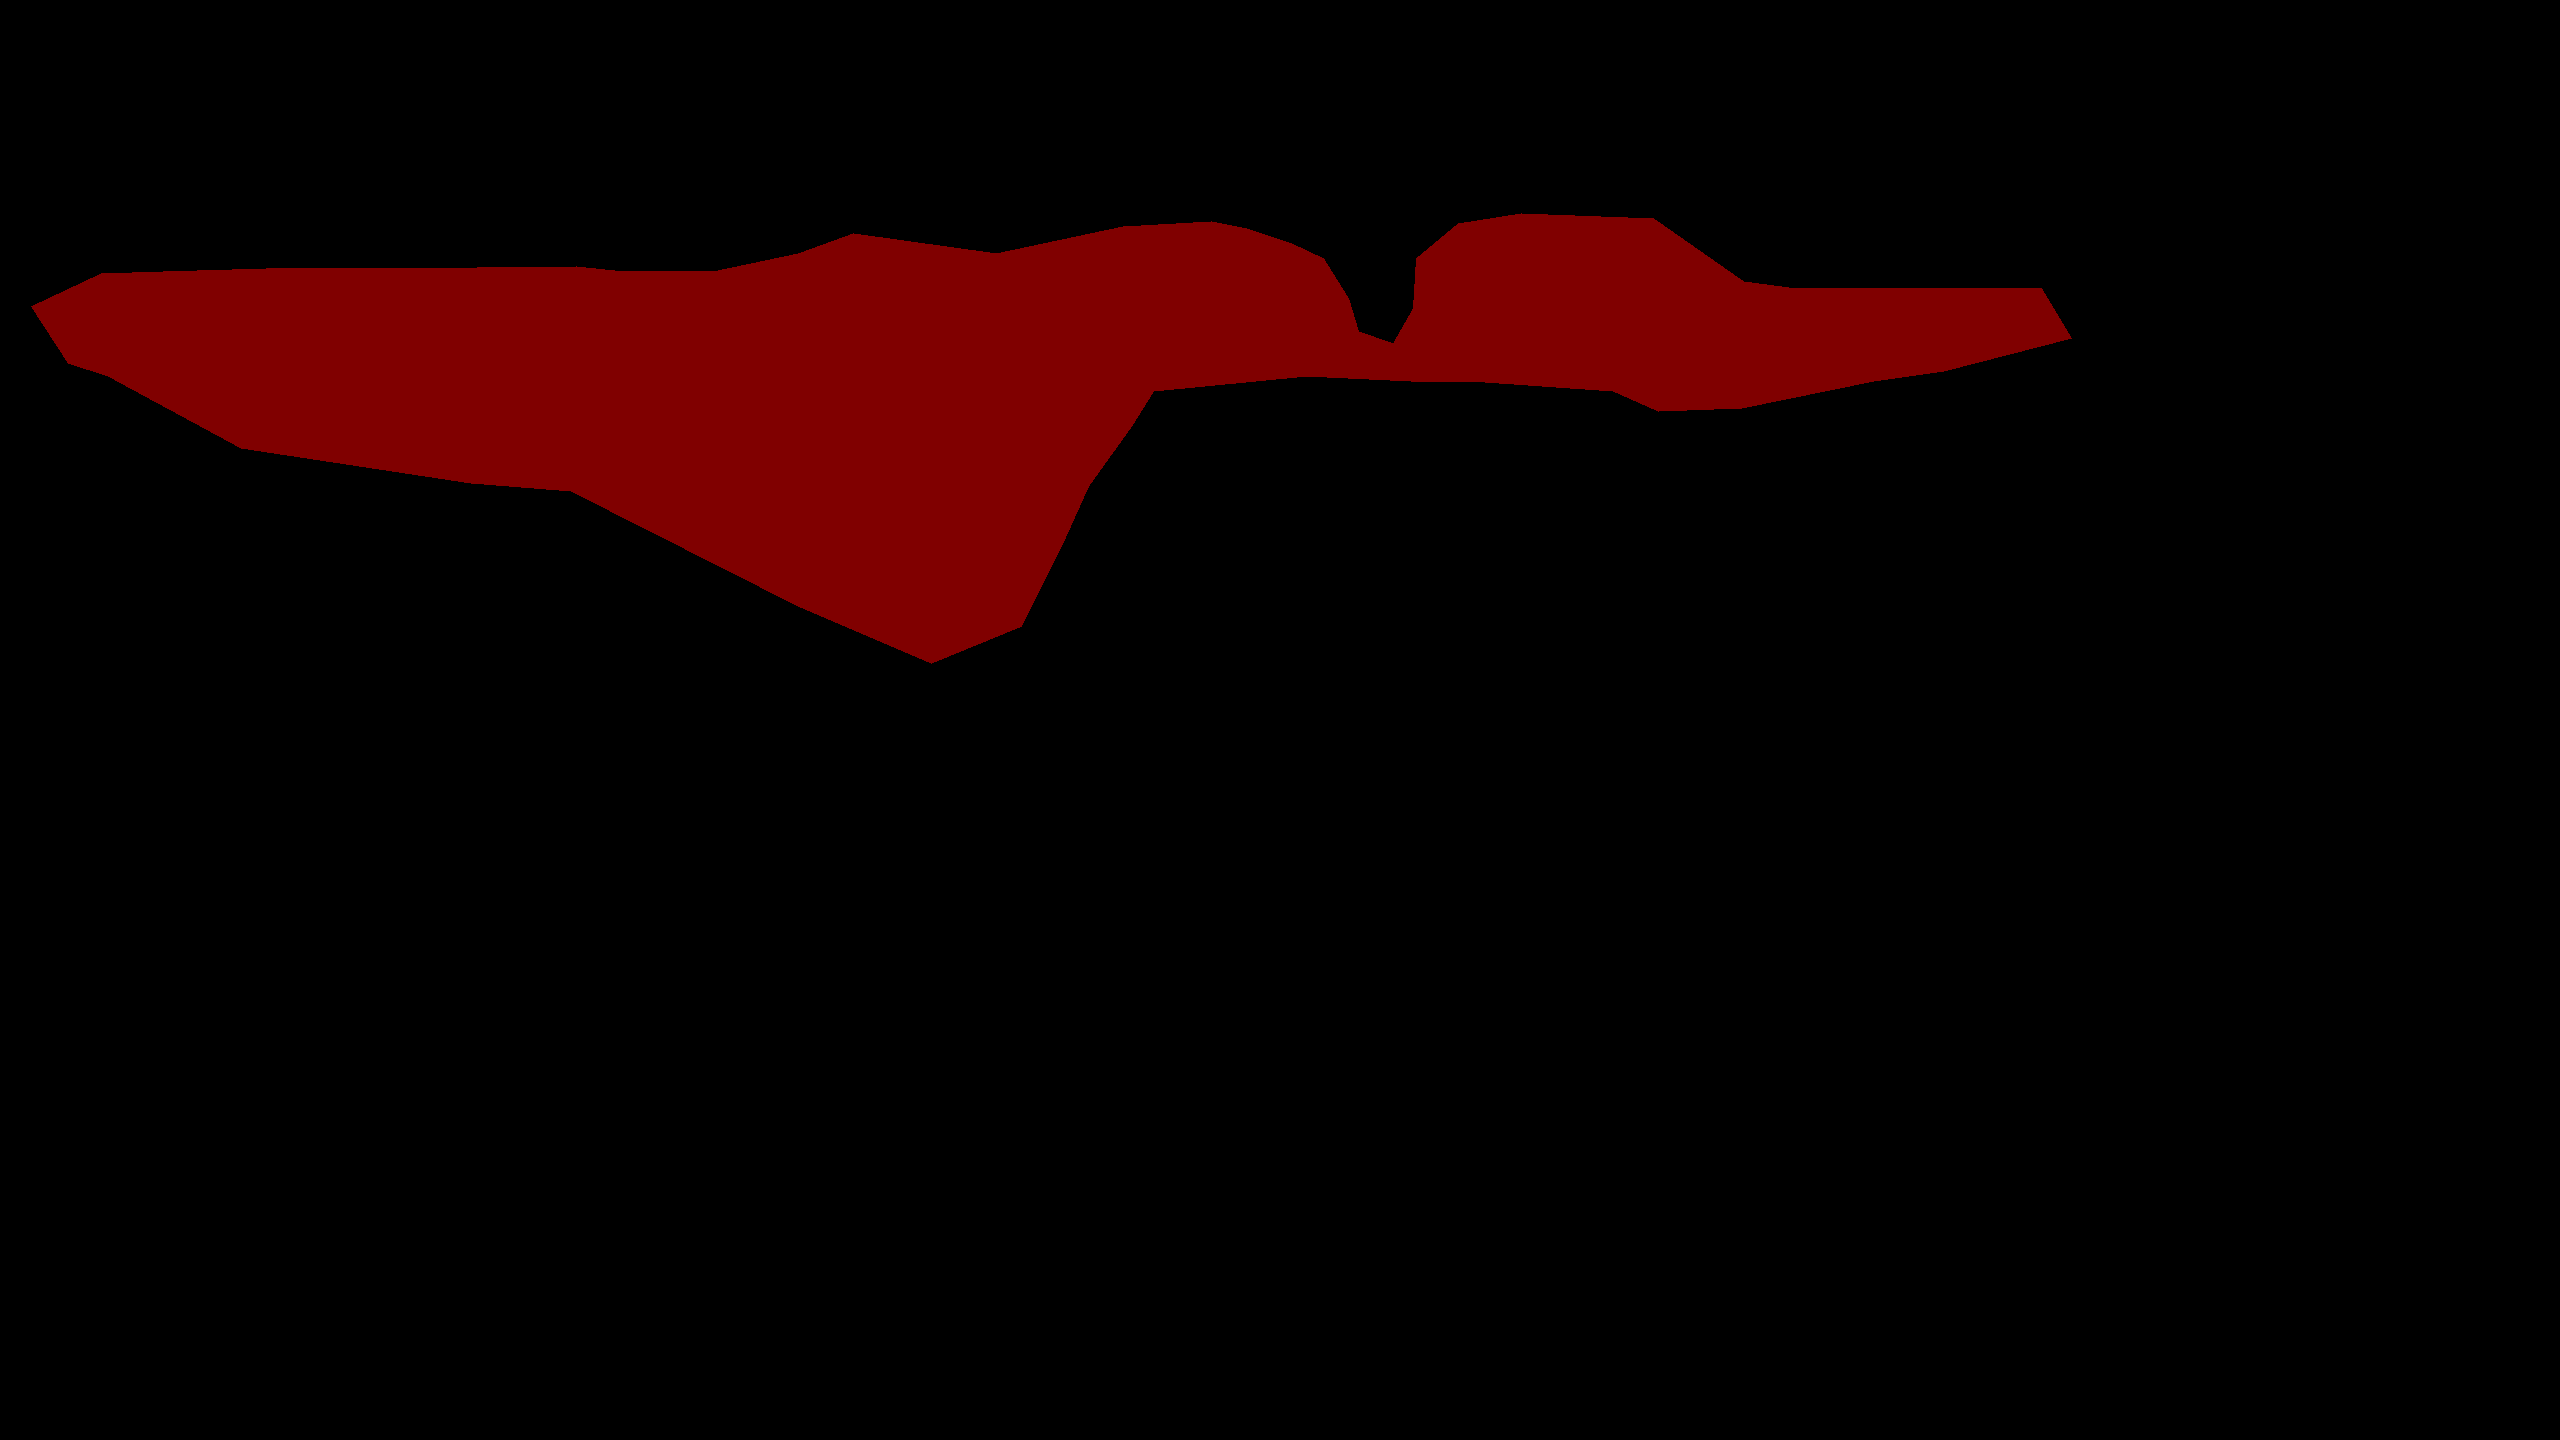fire: (32, 213, 2071, 663)
